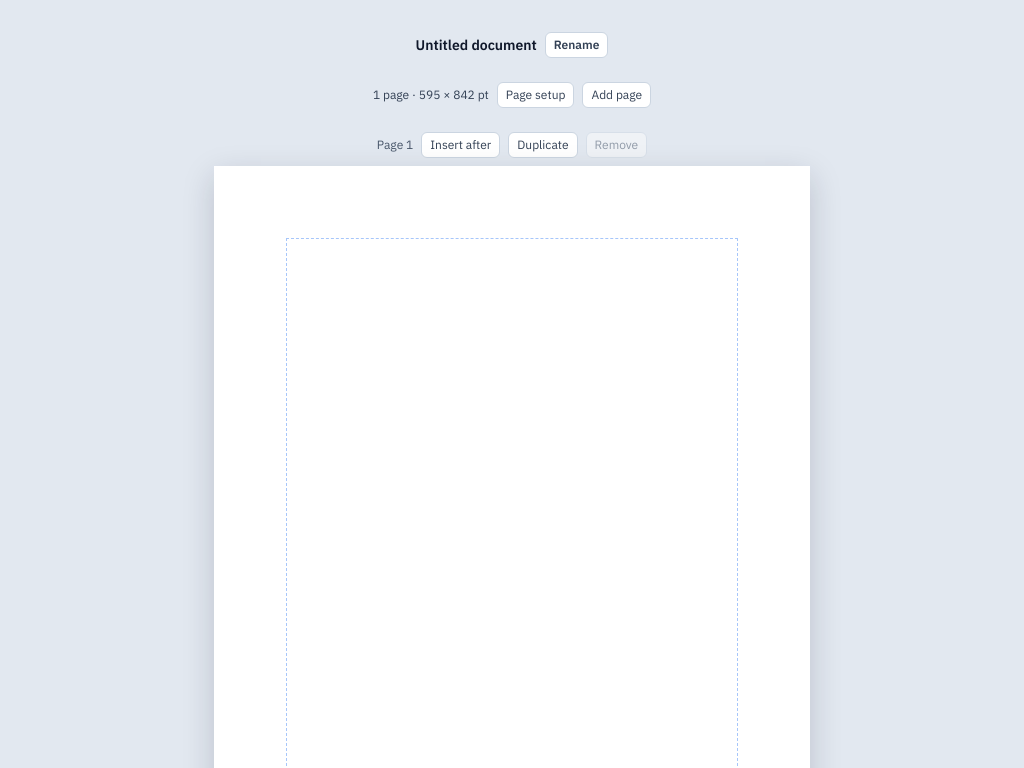
WriterBlankDocumentCanvas page setup flow › cancels page setup without changing store
Click the button with test id "writer-blank-document-page-setup-button": (536, 95) [497, 82, 574, 108]
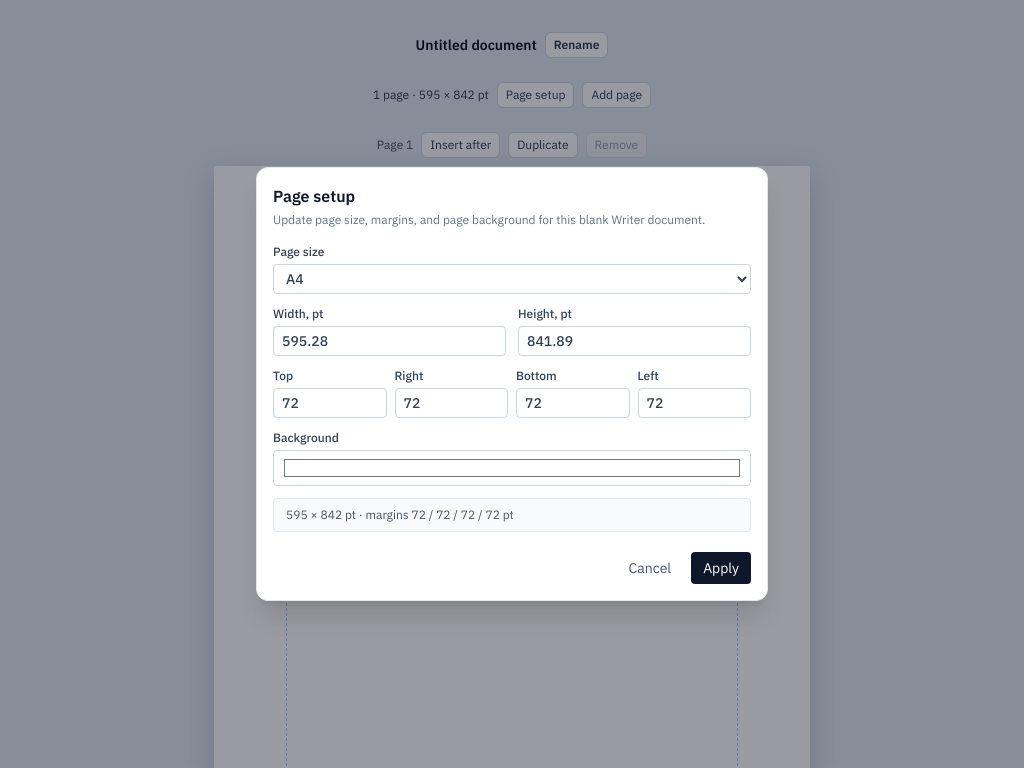
Replace the text in the number field with test id "blank-page-setup-width-input" with "500": (390, 341) [273, 326, 506, 356]
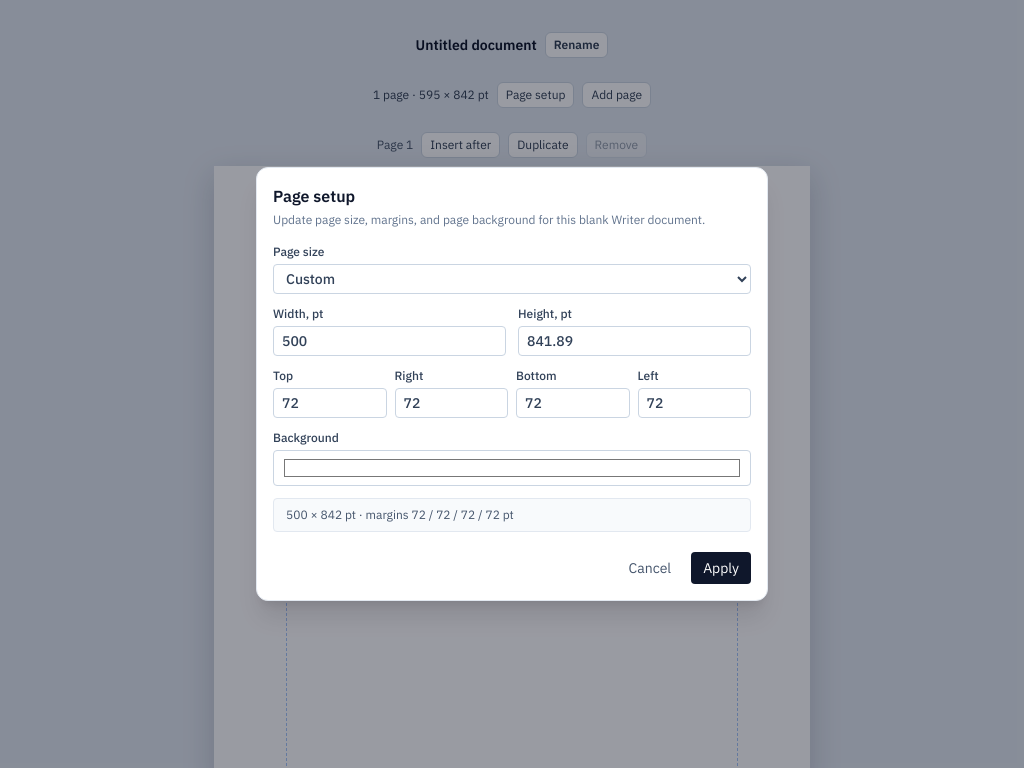
Click the button with test id "blank-page-setup-cancel-button": (650, 568) [616, 552, 683, 584]
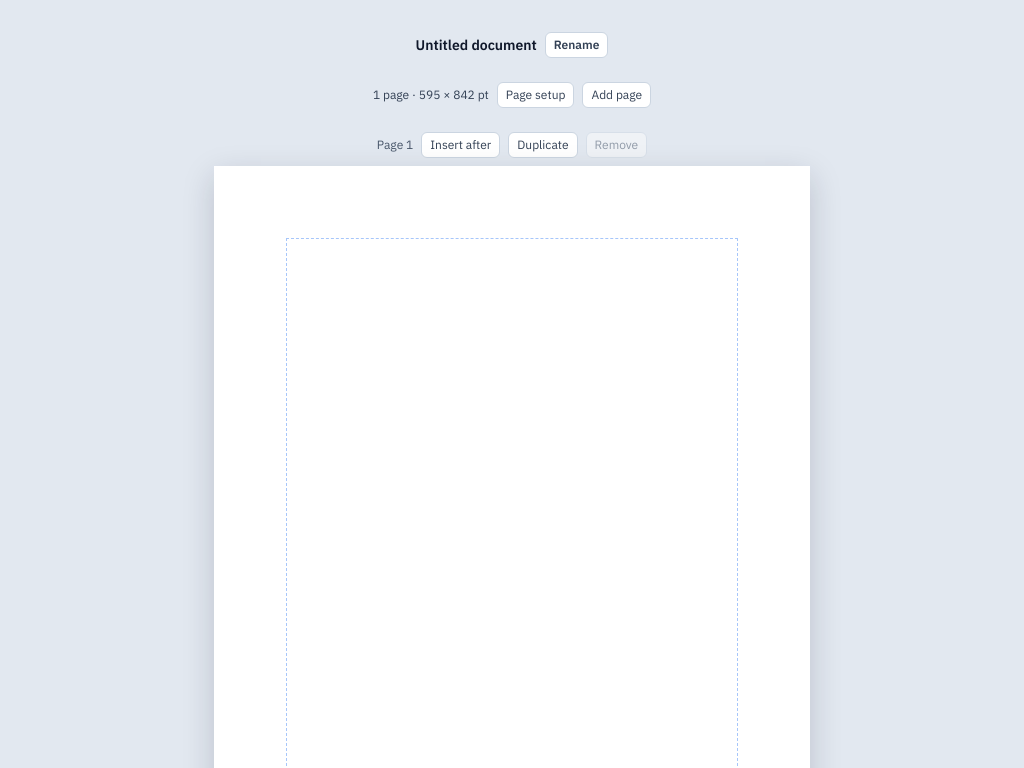
Expected: the dialog with test id "blank-document-page-setup-dialog" is gone
